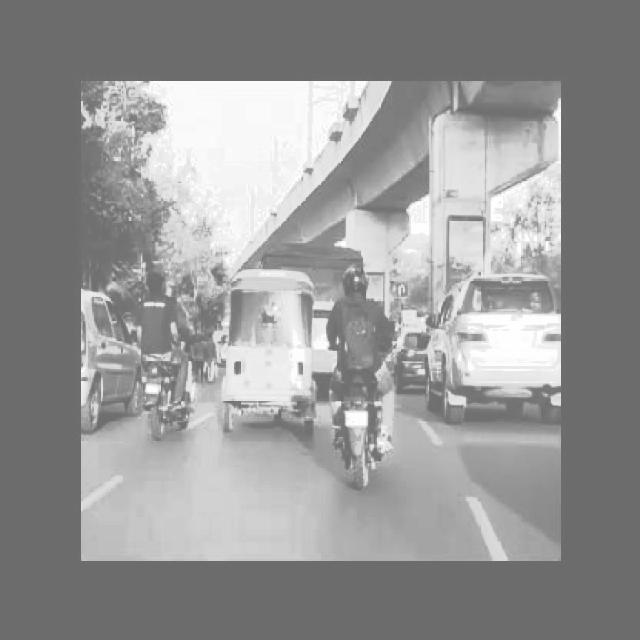Car: (428, 265, 564, 430), (77, 278, 141, 444)
